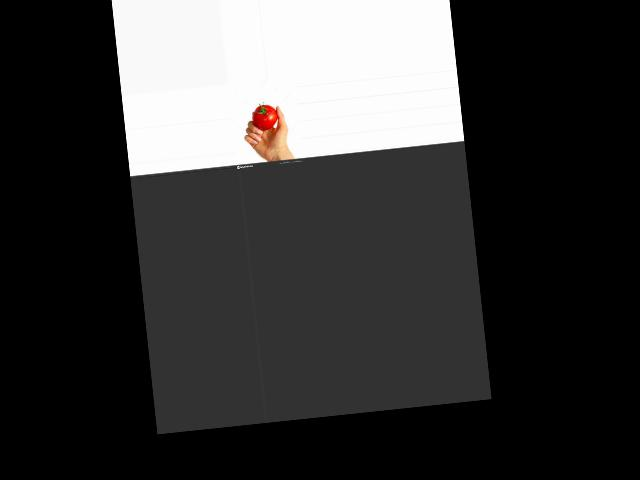tomato: (251, 103, 278, 131)
